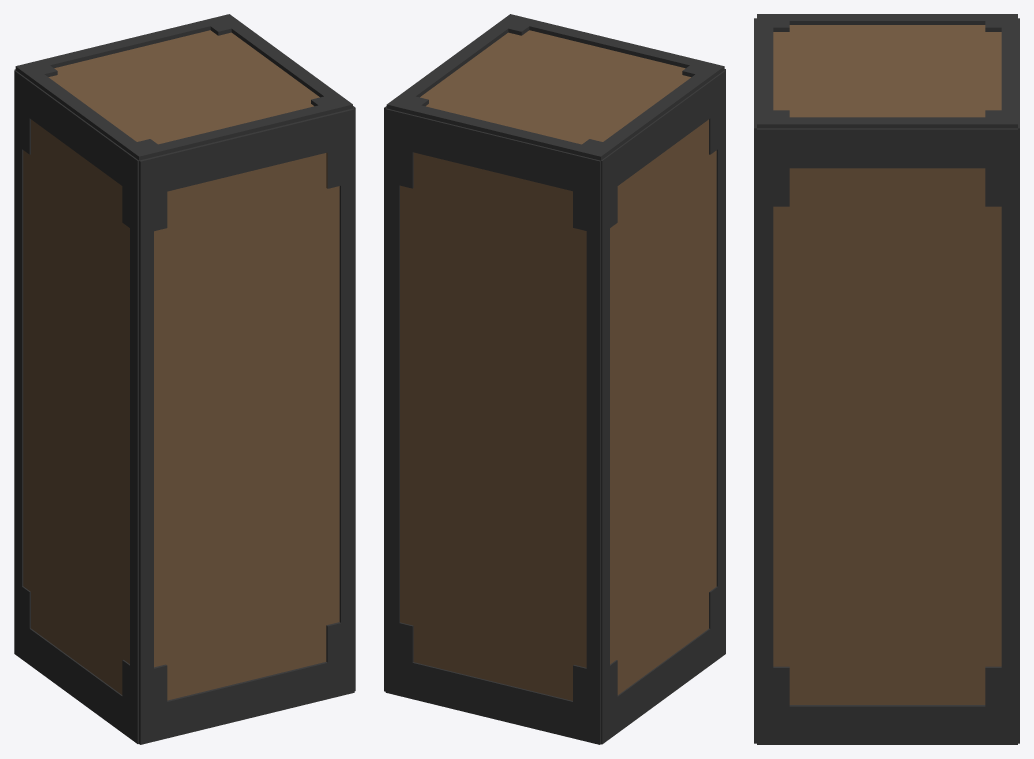
Rendered from Crate 1.fbx.
3 views of the same model, side by side, from view 1: azimuth 30°, elevation 25°; view 2: azimuth 150°, elevation 25°; view 3: azimuth 270°, elevation 25° (orthographic). The views are drawn at different scales.
Visible parts, largest first — view 1: Box 3; view 2: Box 3; view 3: Box 3.
Part boxes in pixels (box(x1,y1,x2,y2)): Box 3: box(14, 14, 355, 744); Box 3: box(384, 14, 725, 744); Box 3: box(754, 14, 1019, 744).
Size of the model in its own units: 469 by 1208 by 470.
